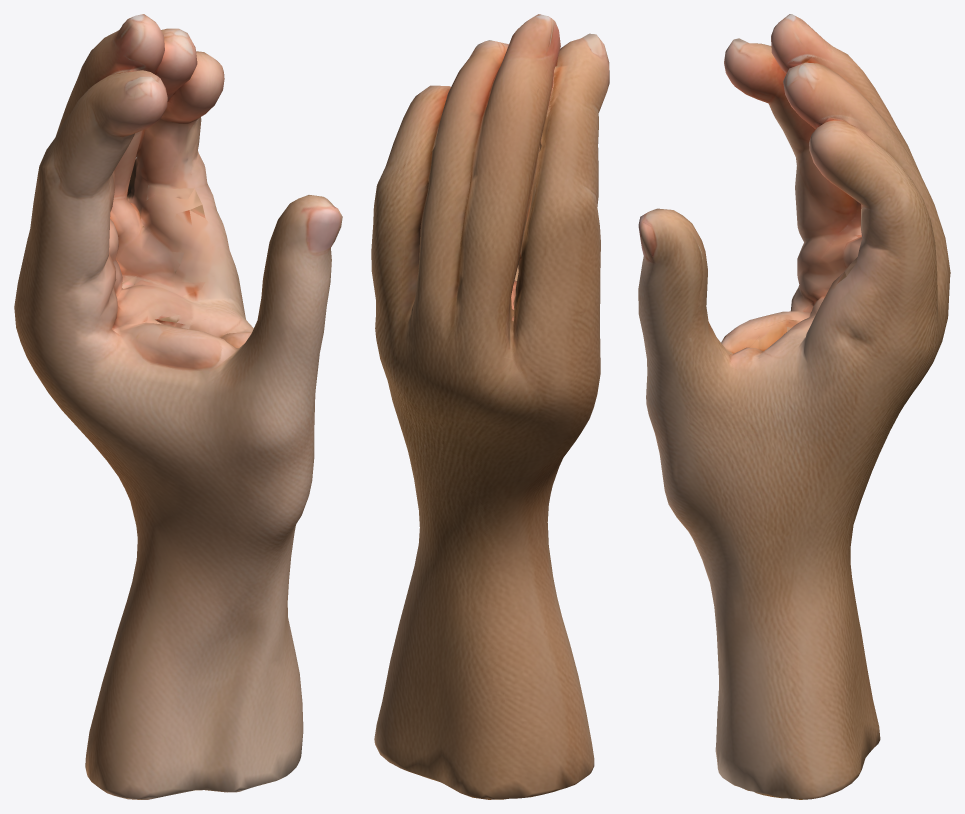
File: Hand2.fbx
3 views of the same model, side by side, from view 1: azimuth 30°, elevation 25°; view 2: azimuth 150°, elevation 25°; view 3: azimuth 270°, elevation 25° (orthographic). The views are drawn at different scales.
Parts seen in each view (by area): view 1: material_0; view 2: material_0; view 3: material_0.
Boxes of the visible parts, x1,y1,x2,y2 form: material_0: (14,14,342,799); material_0: (371,14,609,799); material_0: (638,14,950,799).
Size of the model in its own units: 32.82 by 100 by 39.65.
Materials: 1 (1 with a texture image).
